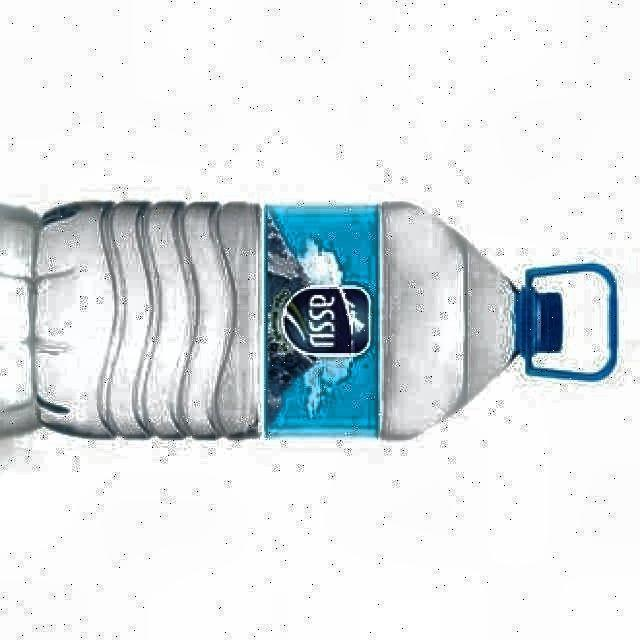plastic: (35, 202, 616, 438)
